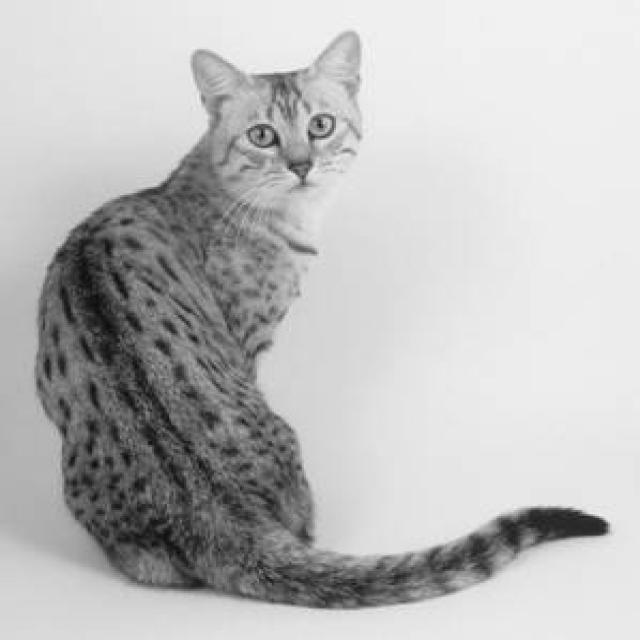Egyptian_Mau: (189, 31, 358, 207)
